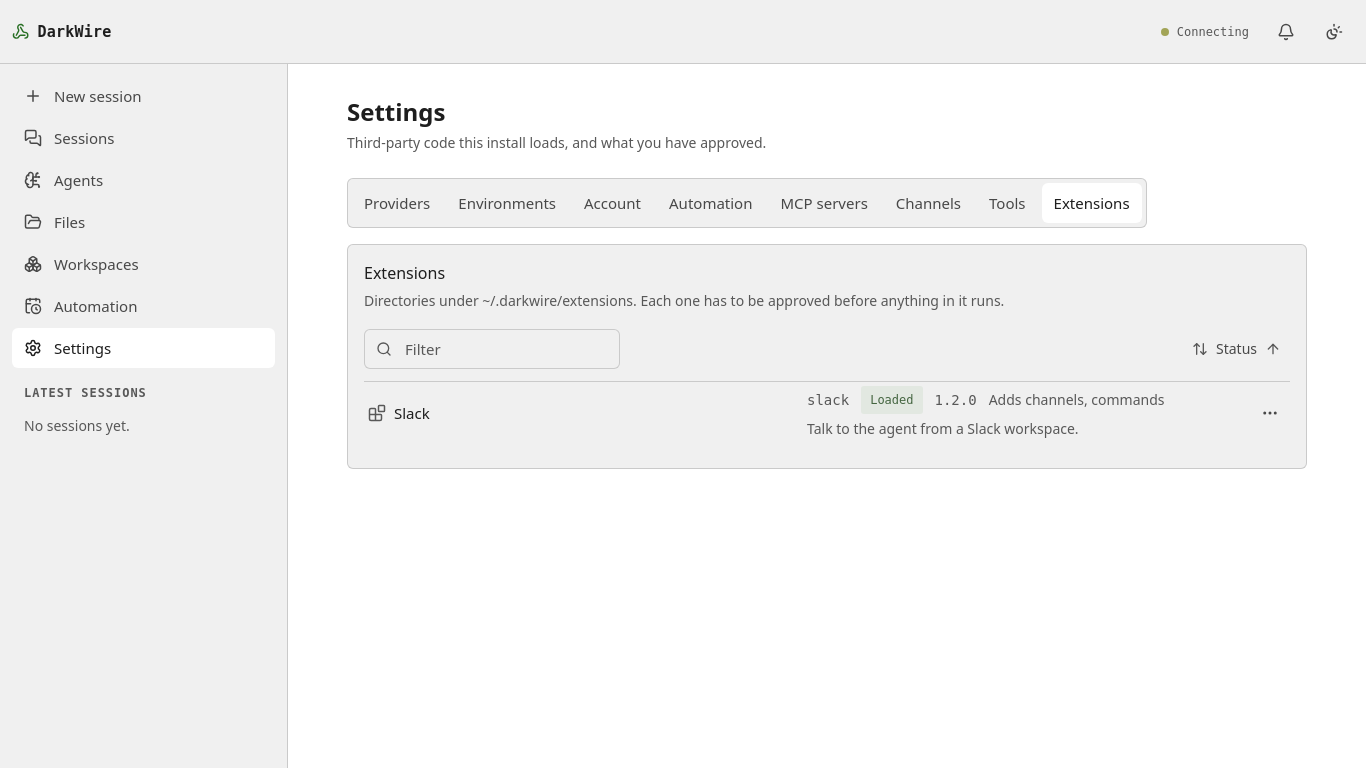
it: the Extensions panel › does not offer Approve on one that is already loaded
The width and height of the screenshot is (1366, 768).
Expected: the text "Slack" is shown, [394,401,430,425]
Step 1. Click the button named "Actions for slack" → (1270, 413), box [1250,393,1290,433]
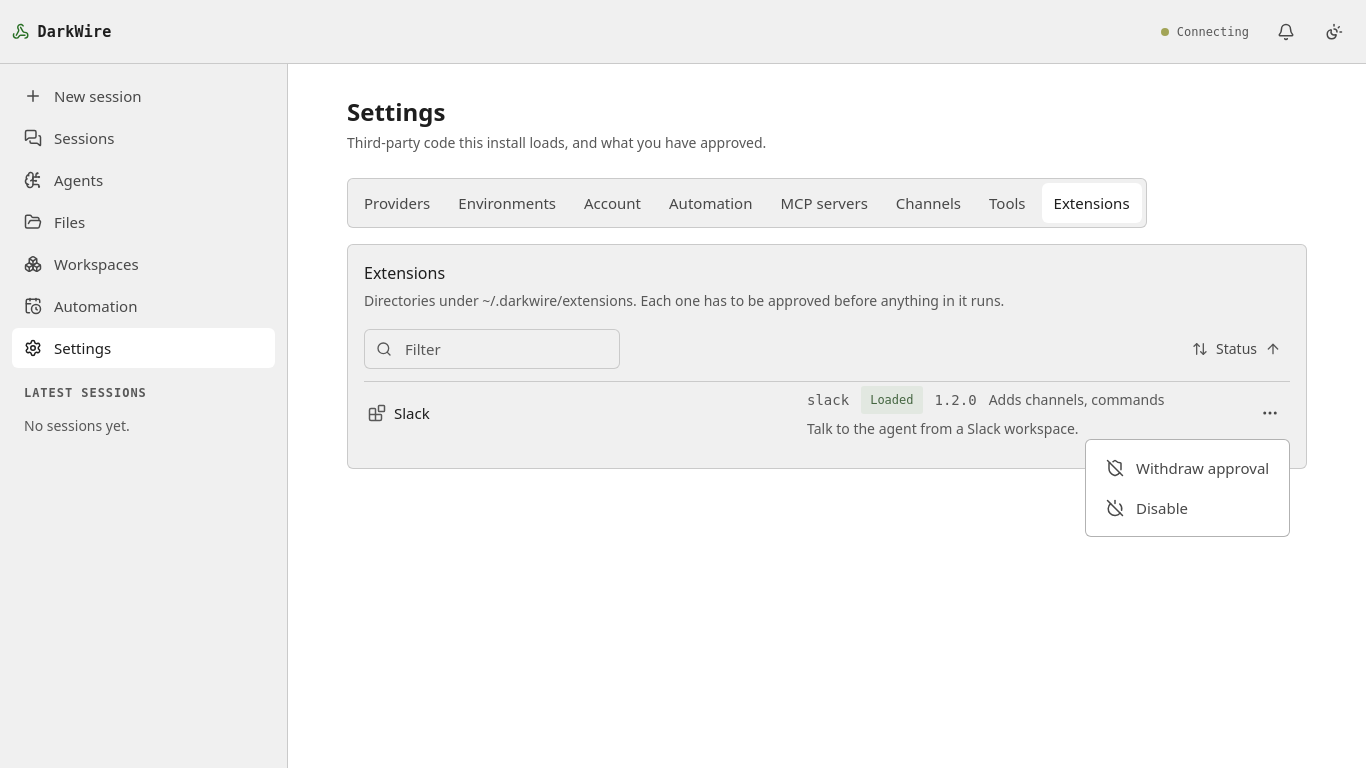
Now the menu item "Withdraw approval" is shown, box [1106,458,1269,478]
